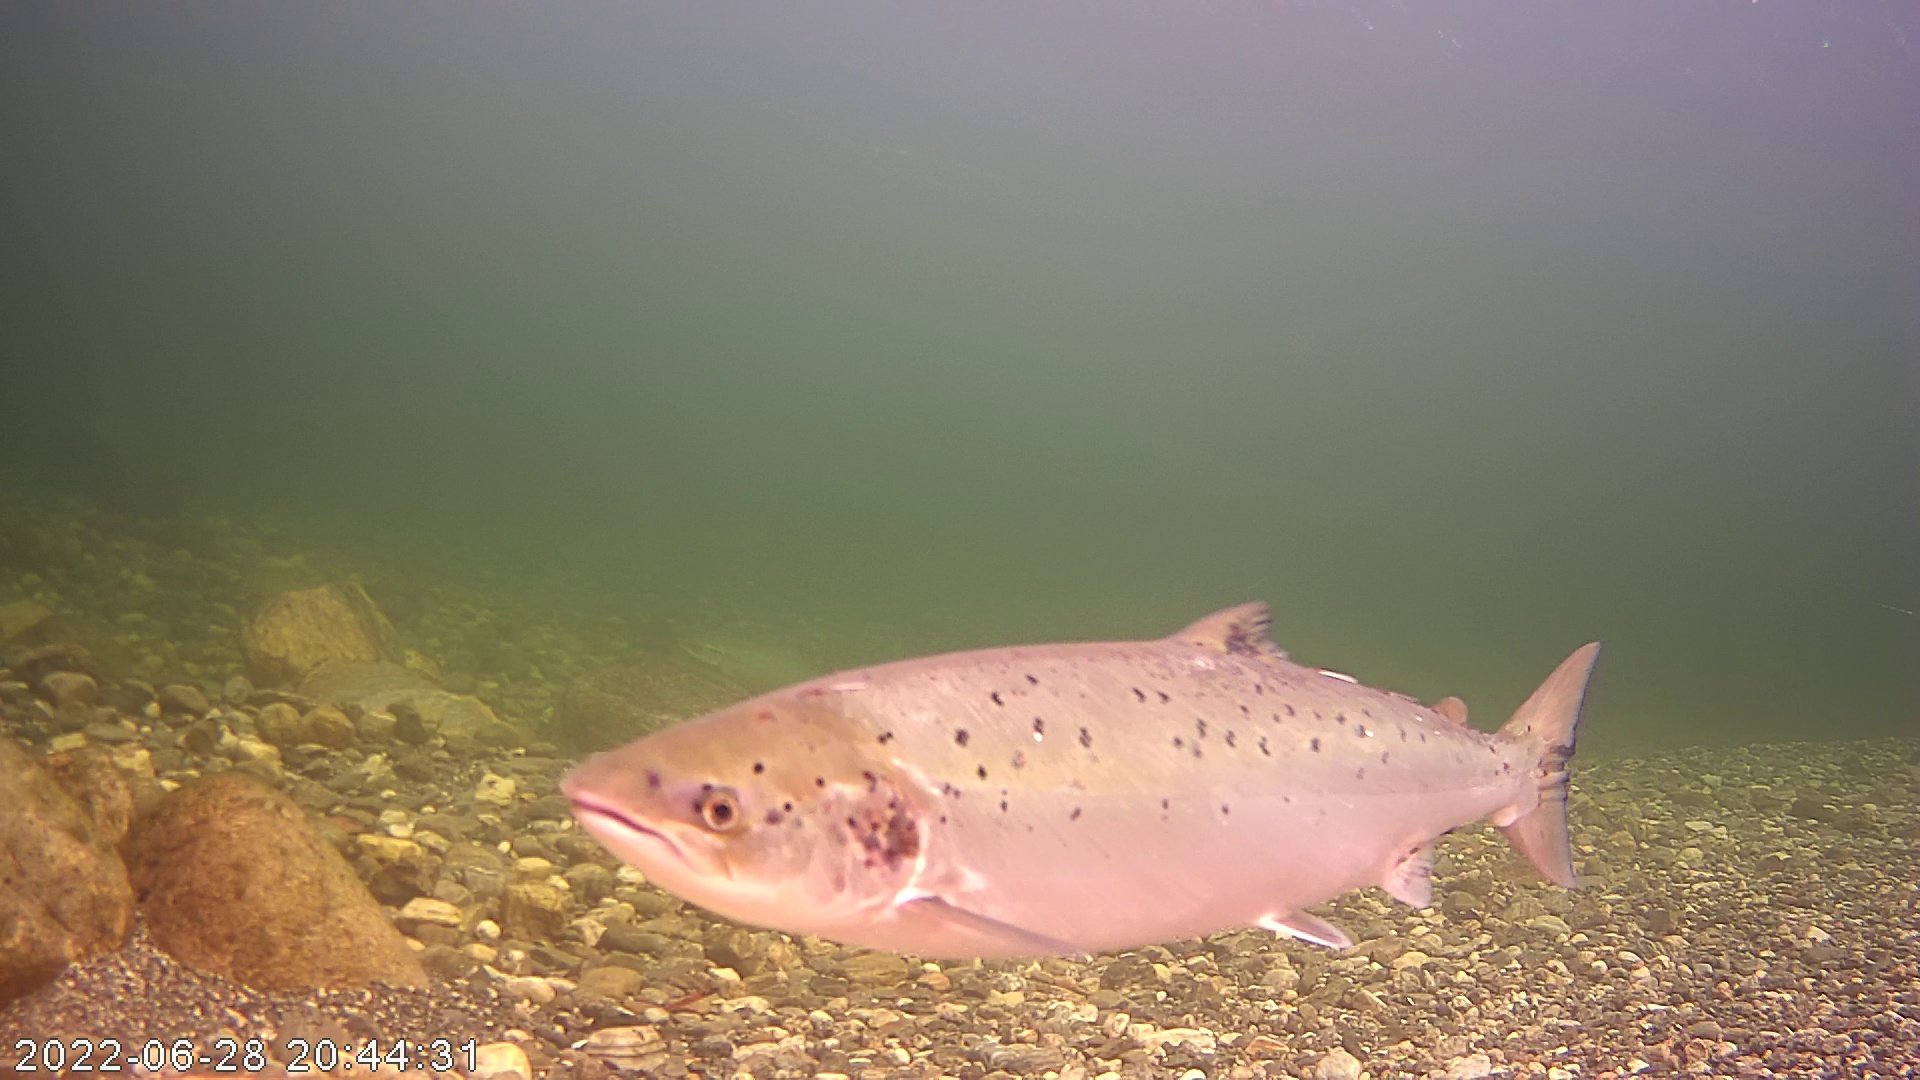salmon: (558, 563, 1614, 971)
